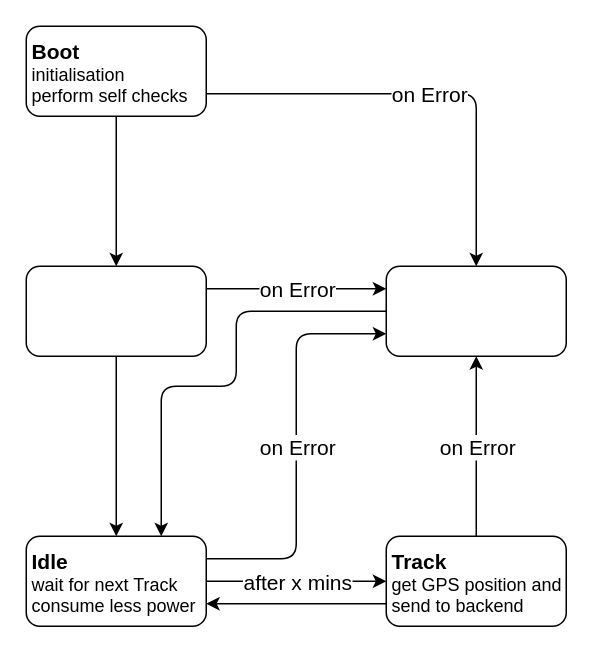
This 593x653 diagram has some shape labels left out. The shapes that lost their labels are listed below. From the top down, each one's centre as x and y in pixels, then its label:
At (115,310): "Configuration Network and GPS initialisation".
At (475,310): "Error handle Errors".
